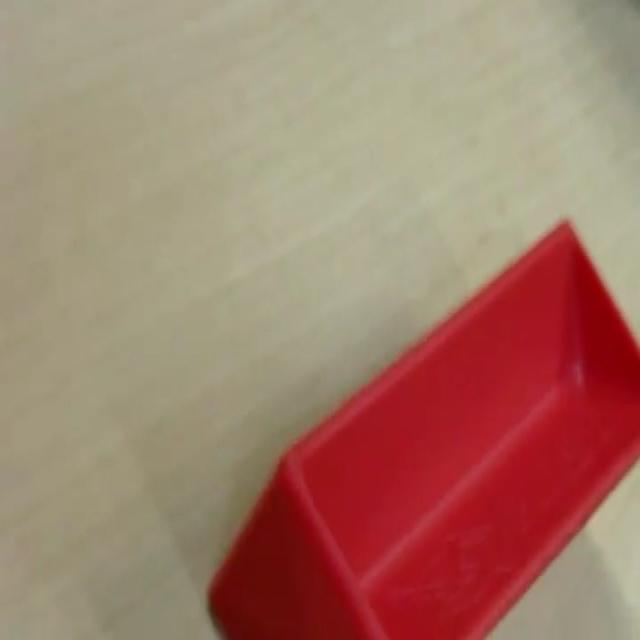red_block: (206, 215, 638, 637)
